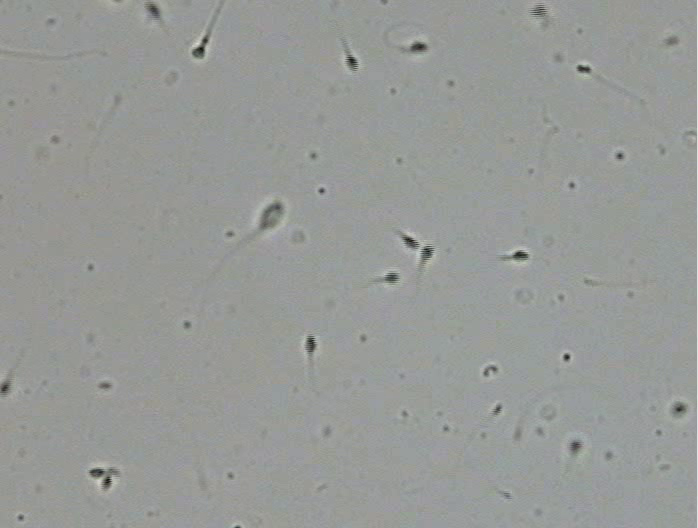S: (260, 202, 285, 230), (420, 243, 435, 262), (145, 2, 160, 20), (529, 3, 548, 17), (304, 334, 317, 354), (402, 235, 420, 249), (345, 54, 359, 72), (384, 271, 401, 284), (410, 42, 428, 53), (512, 250, 529, 261), (192, 45, 205, 59), (568, 440, 582, 453), (1, 379, 11, 397), (101, 476, 113, 490), (672, 403, 686, 415), (576, 64, 591, 74), (89, 468, 103, 477)
